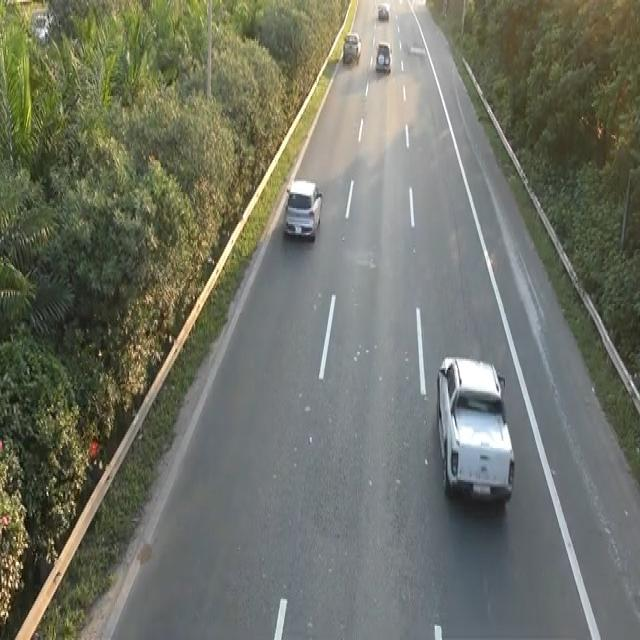bus: (283, 176, 323, 242)
car: (433, 350, 518, 512), (341, 30, 361, 64), (374, 39, 392, 73)
